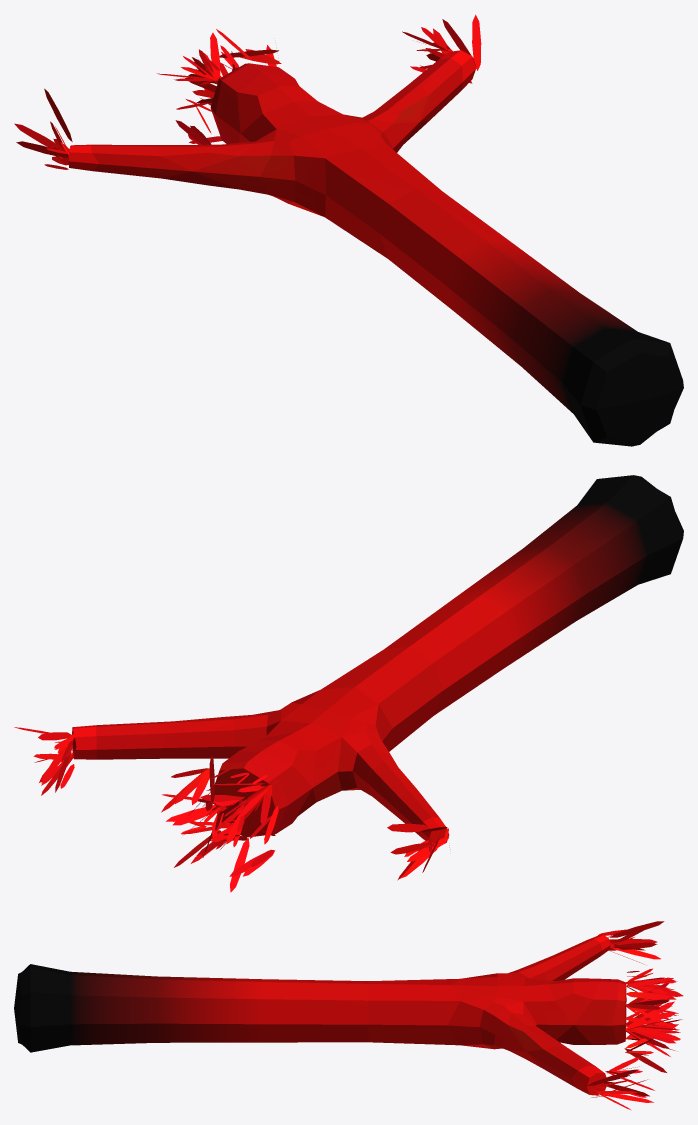
The model's file is tubeMan.fbx.
The picture shows the model from 3 angles, top to bottom: view 1: azimuth 30°, elevation 25°; view 2: azimuth 150°, elevation 25°; view 3: azimuth 270°, elevation 25°; orthographic projection. The views are drawn at different scales.
Visible parts, largest first — view 1: Cube; view 2: Cube; view 3: Cube.
Part boxes in pixels (x1=…): Cube: x1=14, y1=14, x2=683, y2=446; Cube: x1=14, y1=475, x2=683, y2=892; Cube: x1=14, y1=921, x2=683, y2=1110.
Size of the model in its own units: 710 by 177 by 1227.
